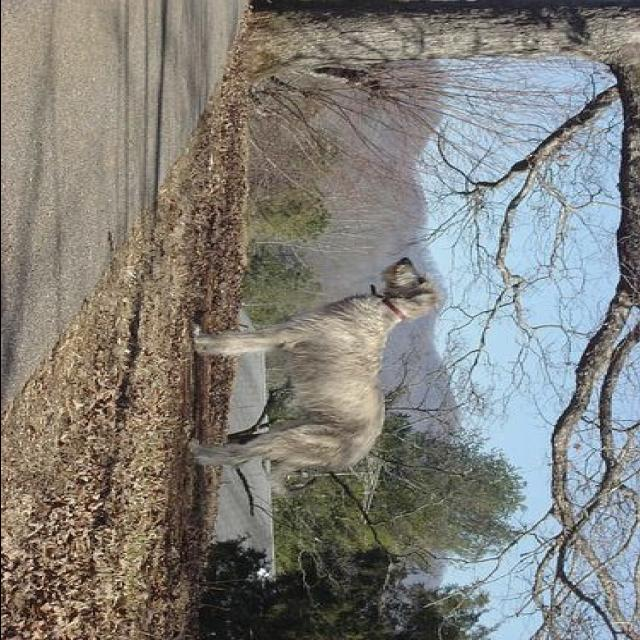irish_wolfhound: (186, 255, 444, 470)
